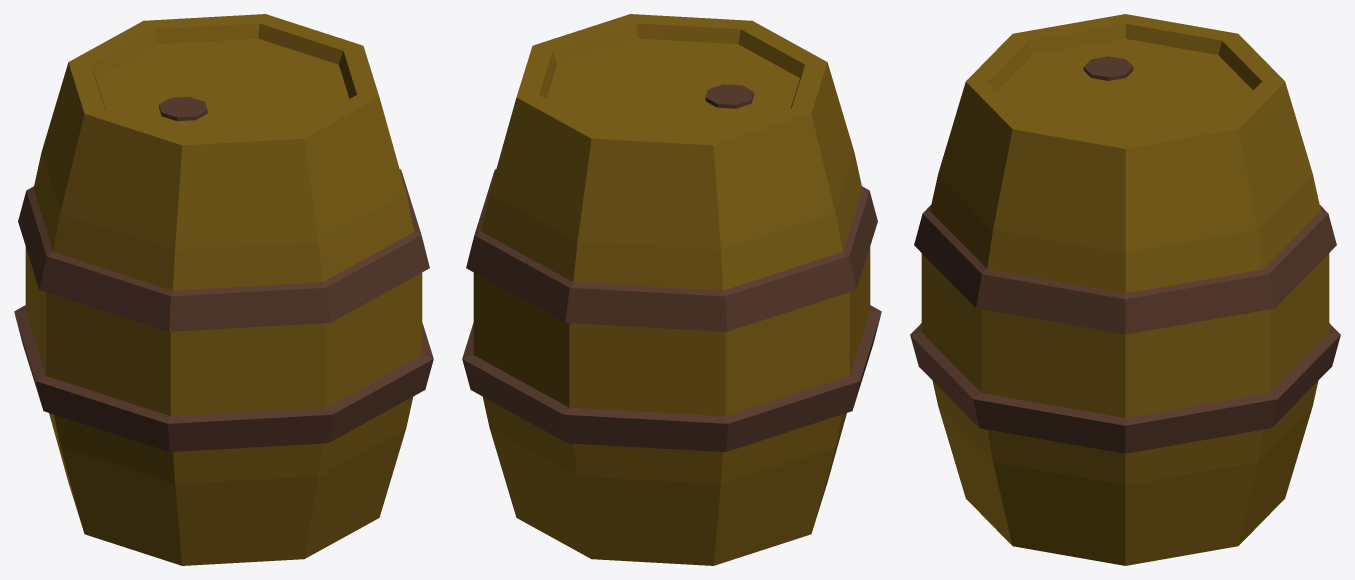
Rendered from barrel.fbx.
3 renders of one model, left to right at view 1: azimuth 30°, elevation 25°; view 2: azimuth 150°, elevation 25°; view 3: azimuth 270°, elevation 25°, orthographic.
Parts seen in each view (by area): view 1: Cylinder.001; view 2: Cylinder.001; view 3: Cylinder.001.
Boxes of the visible parts, x1=… form: Cylinder.001: x1=14, y1=14, x2=433, y2=565; Cylinder.001: x1=462, y1=14, x2=881, y2=565; Cylinder.001: x1=910, y1=14, x2=1340, y2=565.
Size of the model in its own units: 25.7 by 27.44 by 25.7.
